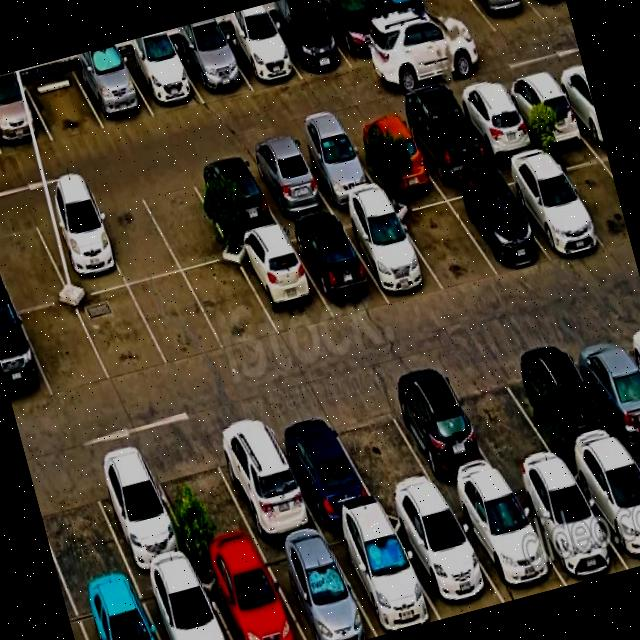empty: (36, 482, 130, 610), (165, 456, 252, 575), (342, 410, 432, 523), (459, 368, 542, 484), (405, 192, 488, 294), (78, 279, 156, 380), (98, 181, 172, 287), (24, 301, 104, 399), (151, 166, 225, 266), (188, 253, 262, 349), (26, 54, 98, 147), (136, 267, 208, 358), (0, 220, 62, 315), (411, 0, 481, 43)
occupied: (220, 442, 314, 565), (398, 384, 488, 504), (101, 476, 192, 594), (406, 506, 496, 622), (290, 428, 374, 550), (342, 522, 428, 638), (468, 488, 554, 604), (521, 344, 603, 464), (531, 470, 614, 587), (519, 154, 600, 270), (277, 539, 367, 640), (354, 199, 434, 308), (463, 170, 541, 280), (36, 192, 118, 296), (411, 90, 487, 200), (301, 210, 376, 320), (354, 100, 430, 208), (512, 65, 586, 172), (193, 152, 273, 250), (241, 232, 319, 332), (464, 80, 536, 186), (208, 557, 299, 640), (580, 335, 640, 448), (302, 123, 372, 219), (77, 41, 147, 135), (587, 453, 640, 572), (254, 138, 321, 229), (226, 2, 292, 93), (127, 28, 194, 116), (178, 14, 244, 102), (271, 0, 341, 81), (149, 579, 234, 640), (322, 0, 389, 67), (79, 595, 172, 640), (0, 314, 45, 406), (370, 0, 435, 54), (0, 69, 40, 151), (455, 0, 521, 24)
